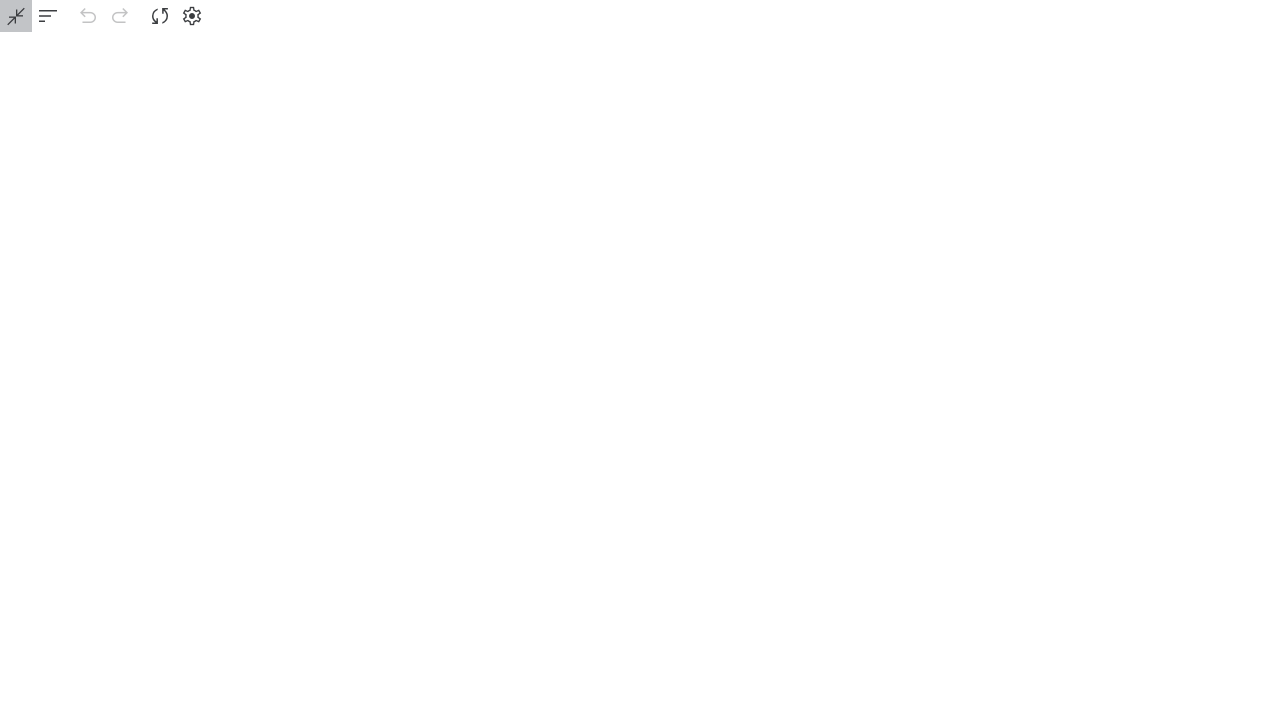
Scenario: Open compact view (KAN-578) › this tab cannot be read: the card shows
The image size is (1280, 720).
Click the button named "Open compact view": x=16, y=16 x1=0 y1=0 x2=32 y2=32
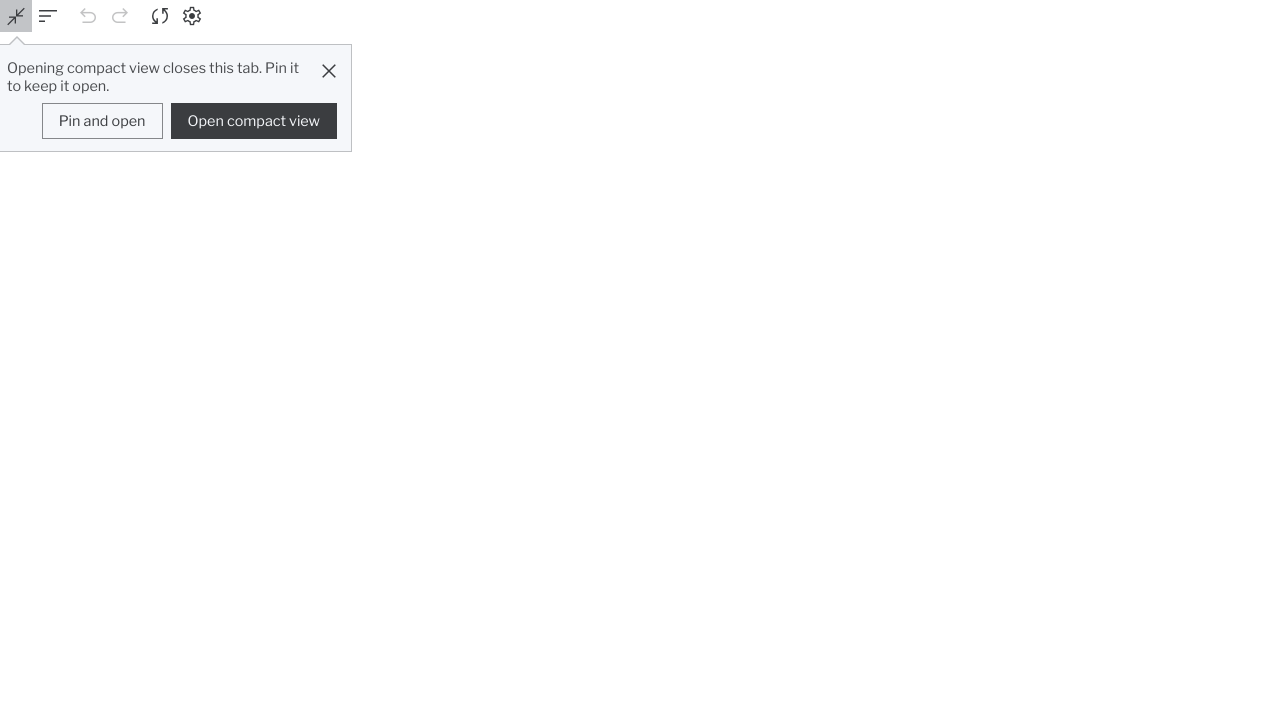
Check: the dialog shows "Opening compact view closes this tab. Pin it to keep it open.", box x1=7 y1=59 x2=299 y2=95
